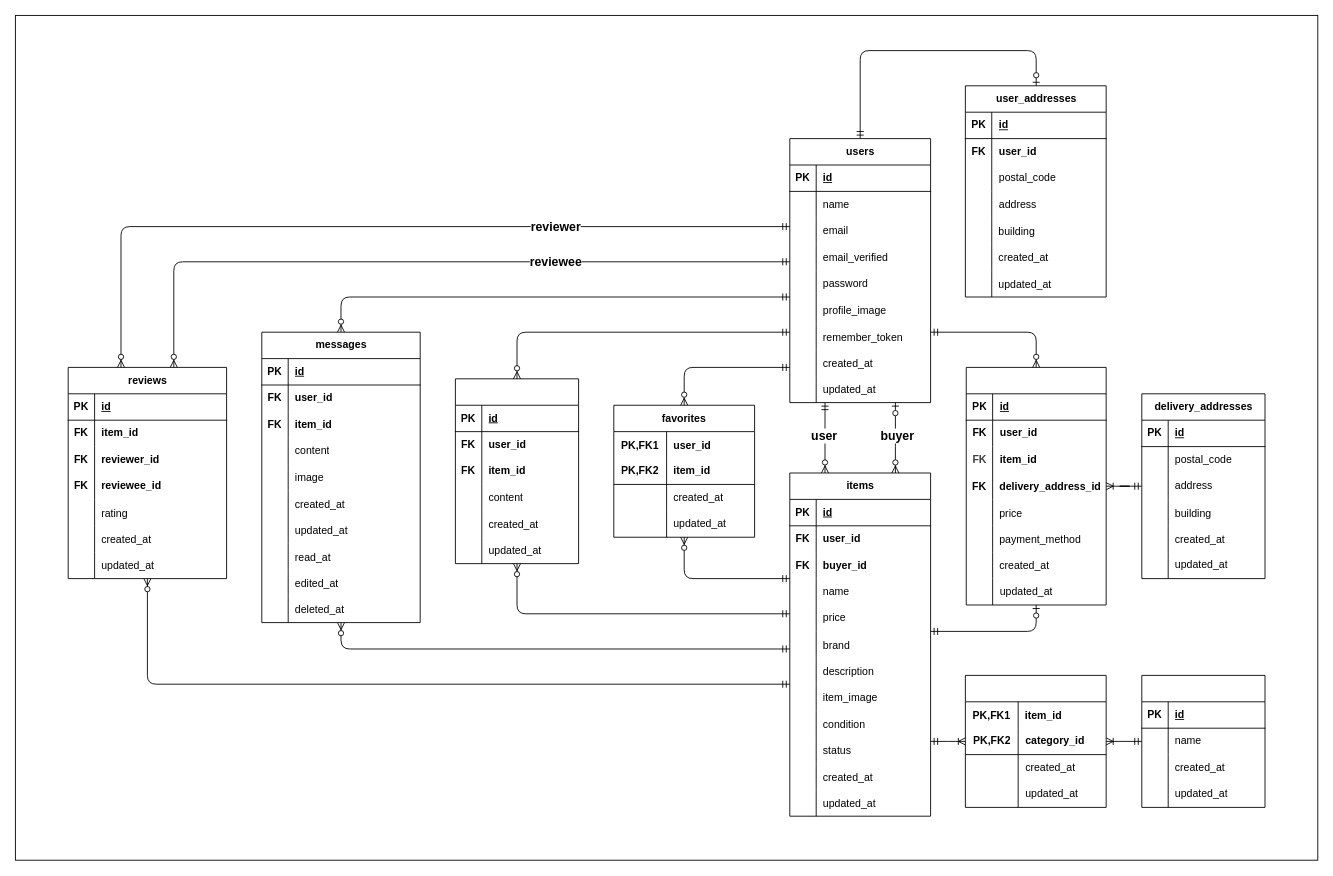
This 1333x876 diagram has some shape labels left out. The shapes that lost their labels are listed below. From the top down, each one's box as (x1, y1, x2, y2) in pixels, then its label:
(455, 378, 579, 564): comments
(965, 367, 1106, 605): purchases
(964, 675, 1106, 807): item_category
(1141, 675, 1265, 807): categories
